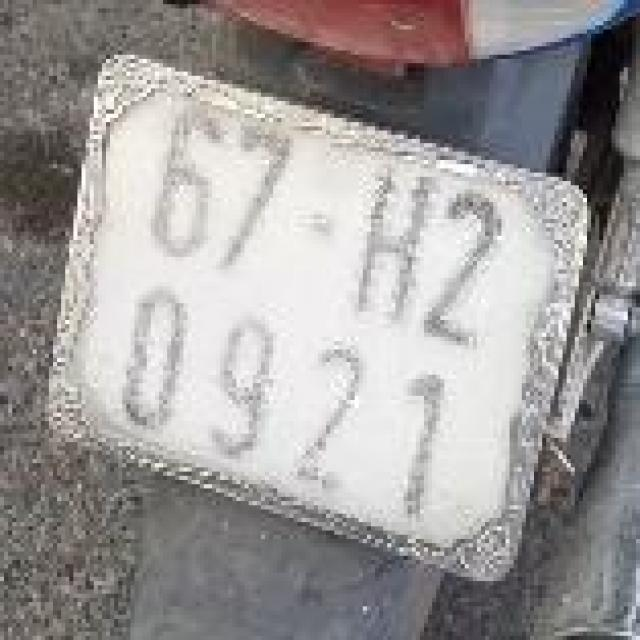0: (105, 271, 218, 443)
1: (365, 361, 484, 535)
2: (415, 176, 530, 355), (273, 335, 394, 505)
6: (139, 101, 243, 265)
7: (201, 115, 314, 286)
9: (188, 300, 307, 465)
H: (341, 156, 459, 330)
